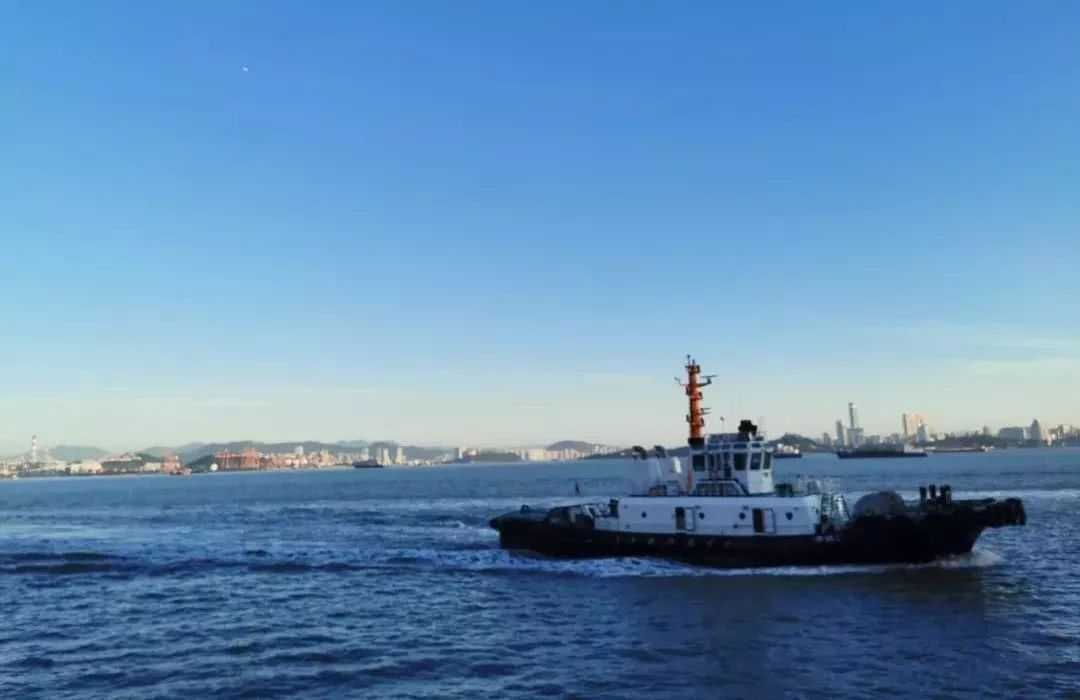otherboat: (498, 374, 1026, 588)
